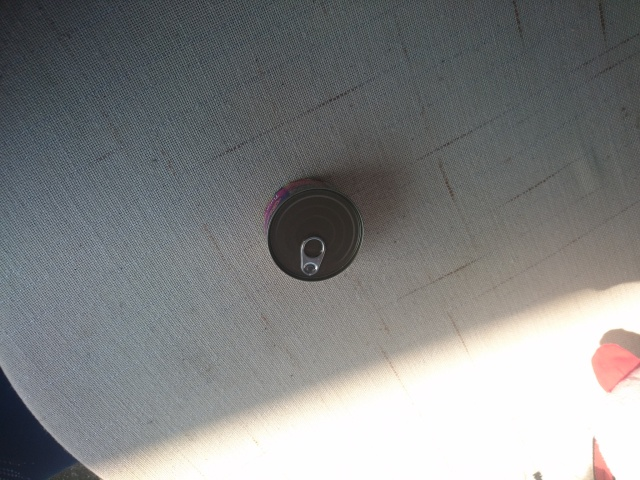Giana Tuna Salad Mexico 185g: (260, 174, 366, 284)
